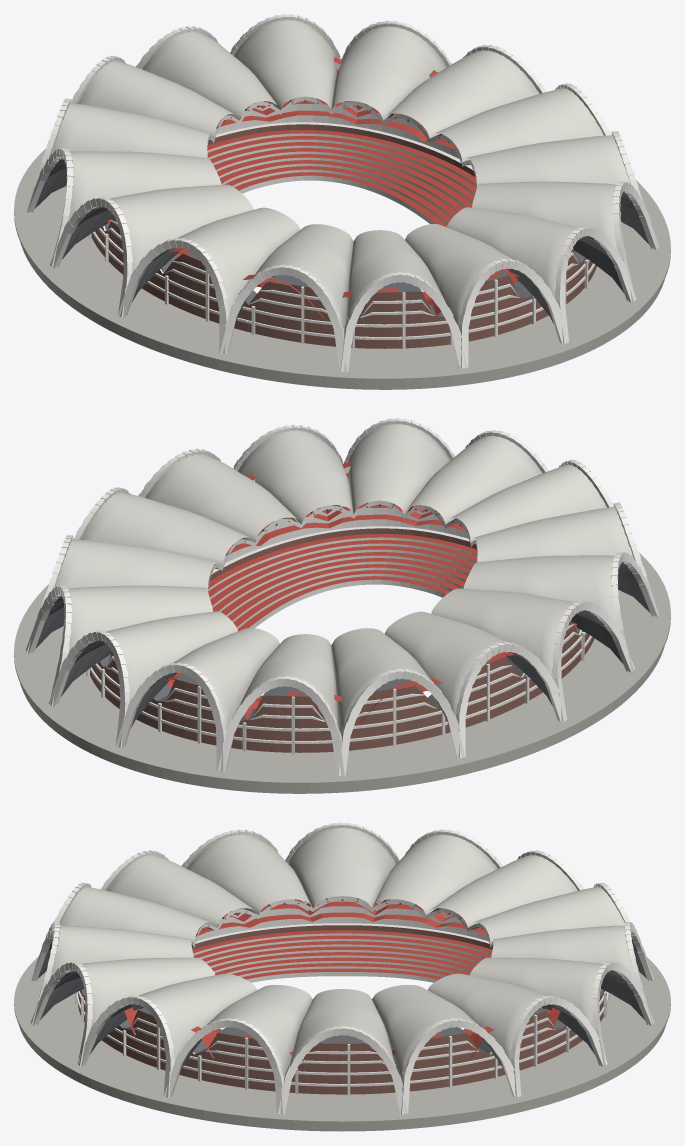
File: pyongyang-rungrado.detail.glb
3 renders of one model, top to bottom at view 1: azimuth 30°, elevation 25°; view 2: azimuth 150°, elevation 25°; view 3: azimuth 270°, elevation 25°, orthographic. The views are drawn at different scales.
Visible parts, largest first — view 1: Rungrado 1st of May Stadium; view 2: Rungrado 1st of May Stadium; view 3: Rungrado 1st of May Stadium.
Boxes of the visible parts, x1,y1,x2,y2 form: Rungrado 1st of May Stadium: (14,14,670,389); Rungrado 1st of May Stadium: (14,418,670,793); Rungrado 1st of May Stadium: (14,822,670,1131).
Size of the model in its own units: 364 by 62.11 by 422.
